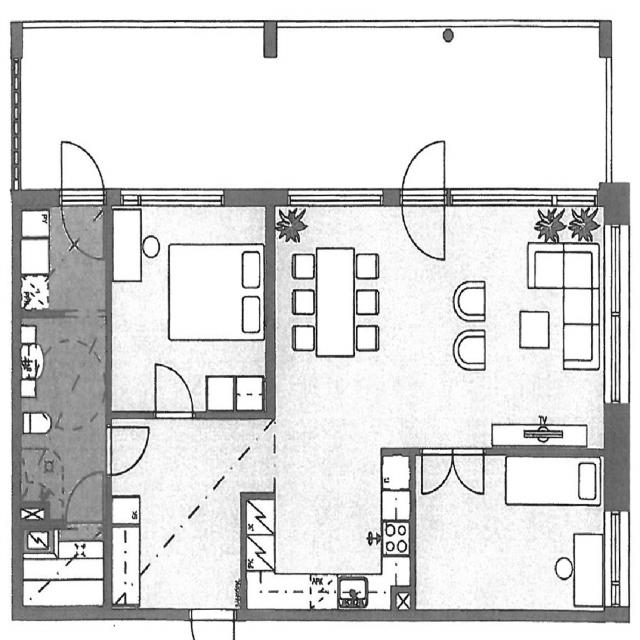door: (402, 134, 444, 207), (61, 188, 103, 260), (61, 135, 103, 207), (402, 188, 444, 260), (155, 362, 193, 418), (105, 427, 150, 474), (66, 473, 102, 529), (422, 448, 453, 494), (453, 448, 483, 494)
